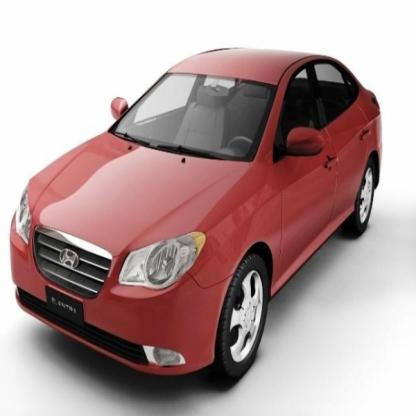Vehicle: (10, 45, 383, 390)
